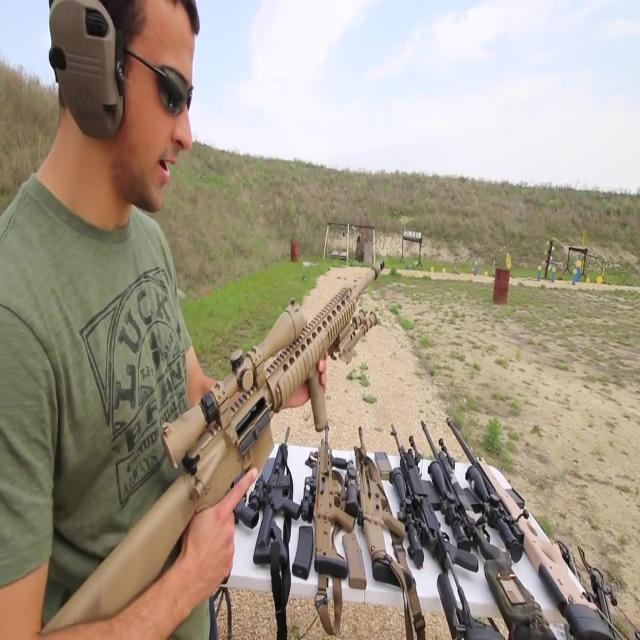Weapon: (51, 223, 386, 640), (195, 382, 640, 640)
